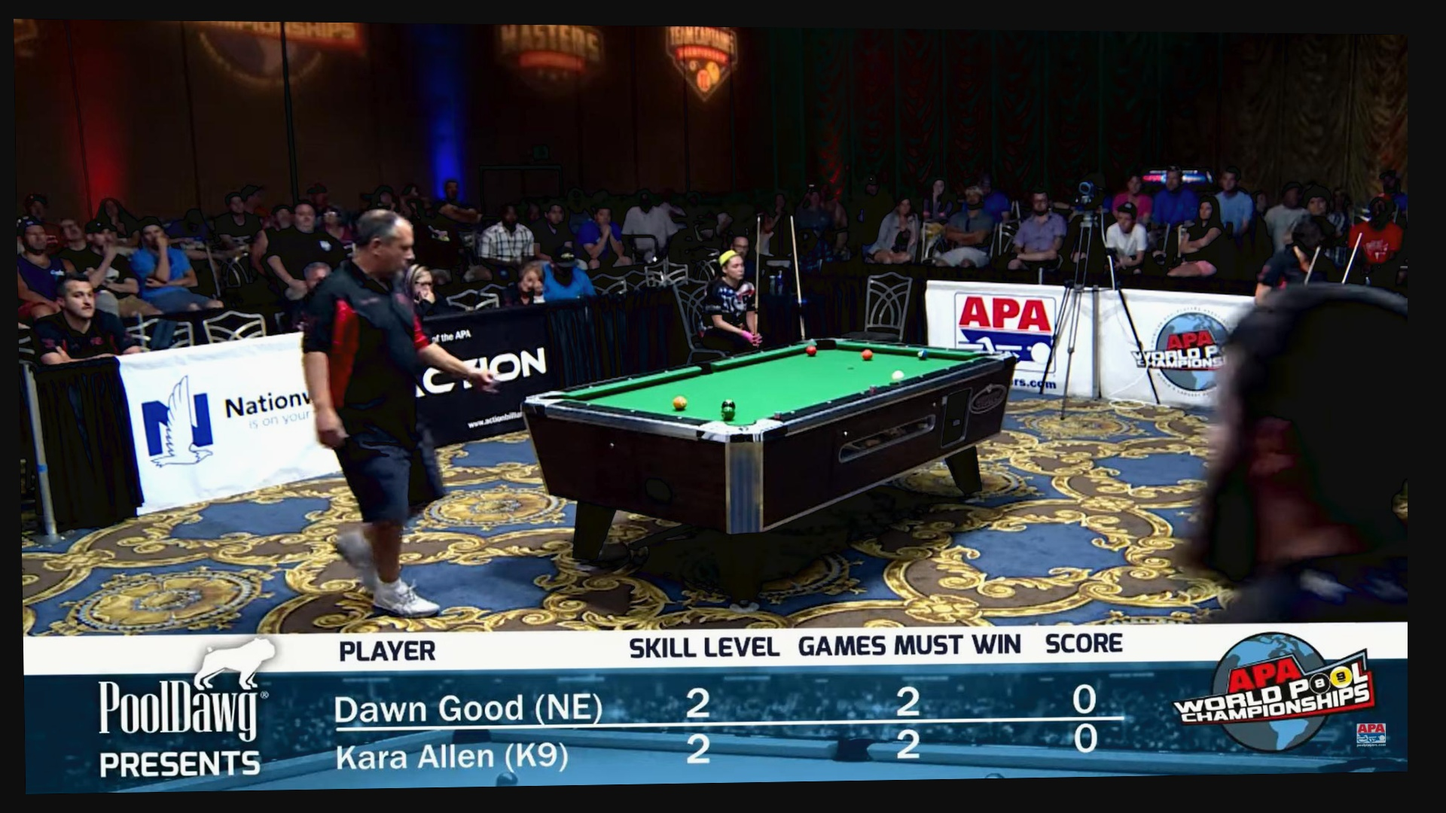Black: (661, 368, 672, 376), (901, 343, 912, 351), (857, 389, 868, 397), (674, 414, 685, 422), (627, 407, 638, 415), (625, 375, 635, 383), (727, 354, 738, 361), (757, 349, 768, 356), (785, 343, 796, 350), (942, 346, 953, 353), (966, 358, 977, 365), (942, 365, 953, 372), (916, 373, 927, 380), (824, 399, 835, 406), (787, 409, 798, 416), (586, 384, 596, 391), (863, 340, 873, 347), (583, 401, 593, 408)
Cue: (721, 405, 736, 421), (672, 395, 687, 411), (861, 348, 874, 360), (917, 349, 928, 360), (806, 345, 817, 356)
Solid: (721, 399, 735, 410)
Stripe: (892, 370, 905, 382)
